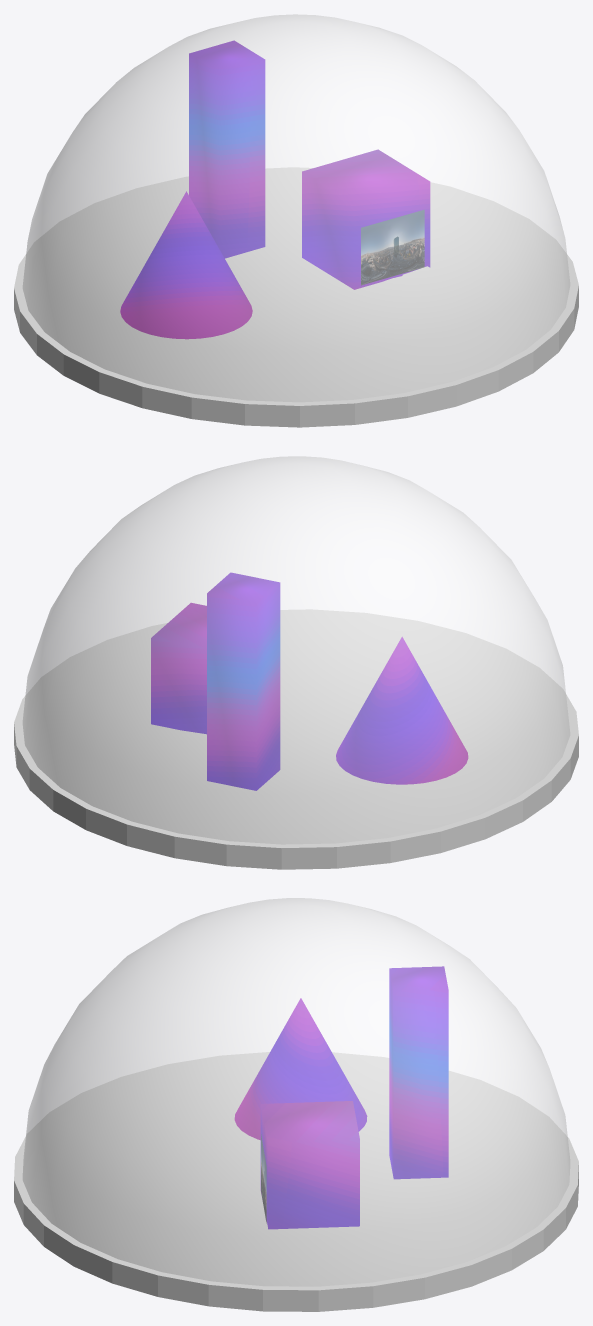
The model's file is example2.gltf.
3 views of the same model, one above another, from view 1: azimuth 30°, elevation 25°; view 2: azimuth 150°, elevation 25°; view 3: azimuth 270°, elevation 25° (orthographic).
Visible parts, largest first — view 1: Sphere, Cylinder, Cube.001, portal; view 2: Sphere, Cylinder, Cube.001; view 3: Sphere, Cylinder, Cube.001.
Part boxes in pixels (<box>): Sphere: <box>22,14,570,402</box>; Cylinder: <box>14,167,578,427</box>; Cube.001: <box>120,40,430,339</box>; portal: <box>361,210,424,285</box>; Sphere: <box>22,456,570,844</box>; Cylinder: <box>14,609,578,869</box>; Cube.001: <box>151,572,468,790</box>; Sphere: <box>22,898,570,1286</box>; Cylinder: <box>14,1052,578,1311</box>; Cube.001: <box>234,966,448,1229</box>.
Size of what is drawn, in the model's own units: 20.66 by 10.86 by 20.66.
Materials: 3 (2 with a texture image).
